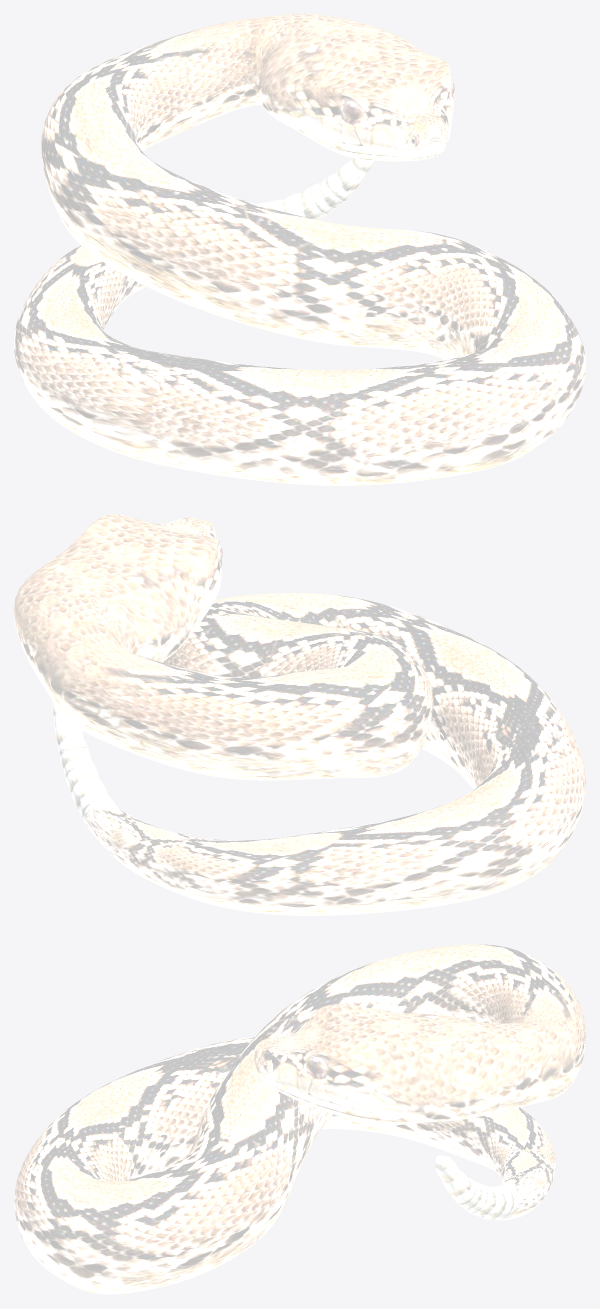
The model's file is snake.gltf.
The picture shows the model from 3 angles, top to bottom: view 1: azimuth 30°, elevation 25°; view 2: azimuth 150°, elevation 25°; view 3: azimuth 270°, elevation 25°; orthographic projection. The views are drawn at different scales.
Parts seen in each view (by area): view 1: 10050_RattleSnake_v4_L3; view 2: 10050_RattleSnake_v4_L3; view 3: 10050_RattleSnake_v4_L3.
Part boxes in pixels (left/top/right/bottom): 10050_RattleSnake_v4_L3: left=14, top=14, right=585, bottom=485; 10050_RattleSnake_v4_L3: left=14, top=514, right=585, bottom=915; 10050_RattleSnake_v4_L3: left=14, top=944, right=585, bottom=1294.
Size of the model in its own units: 1.58 by 0.9203 by 1.86.
Materials: 1 (1 with a texture image).
